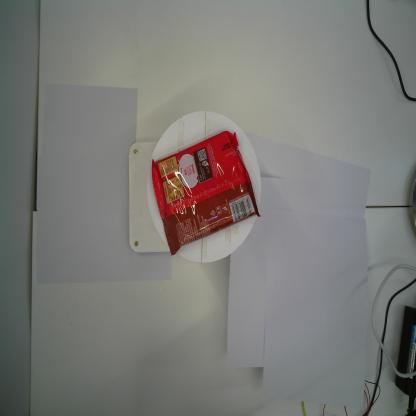Dessert: (151, 130, 262, 256)
